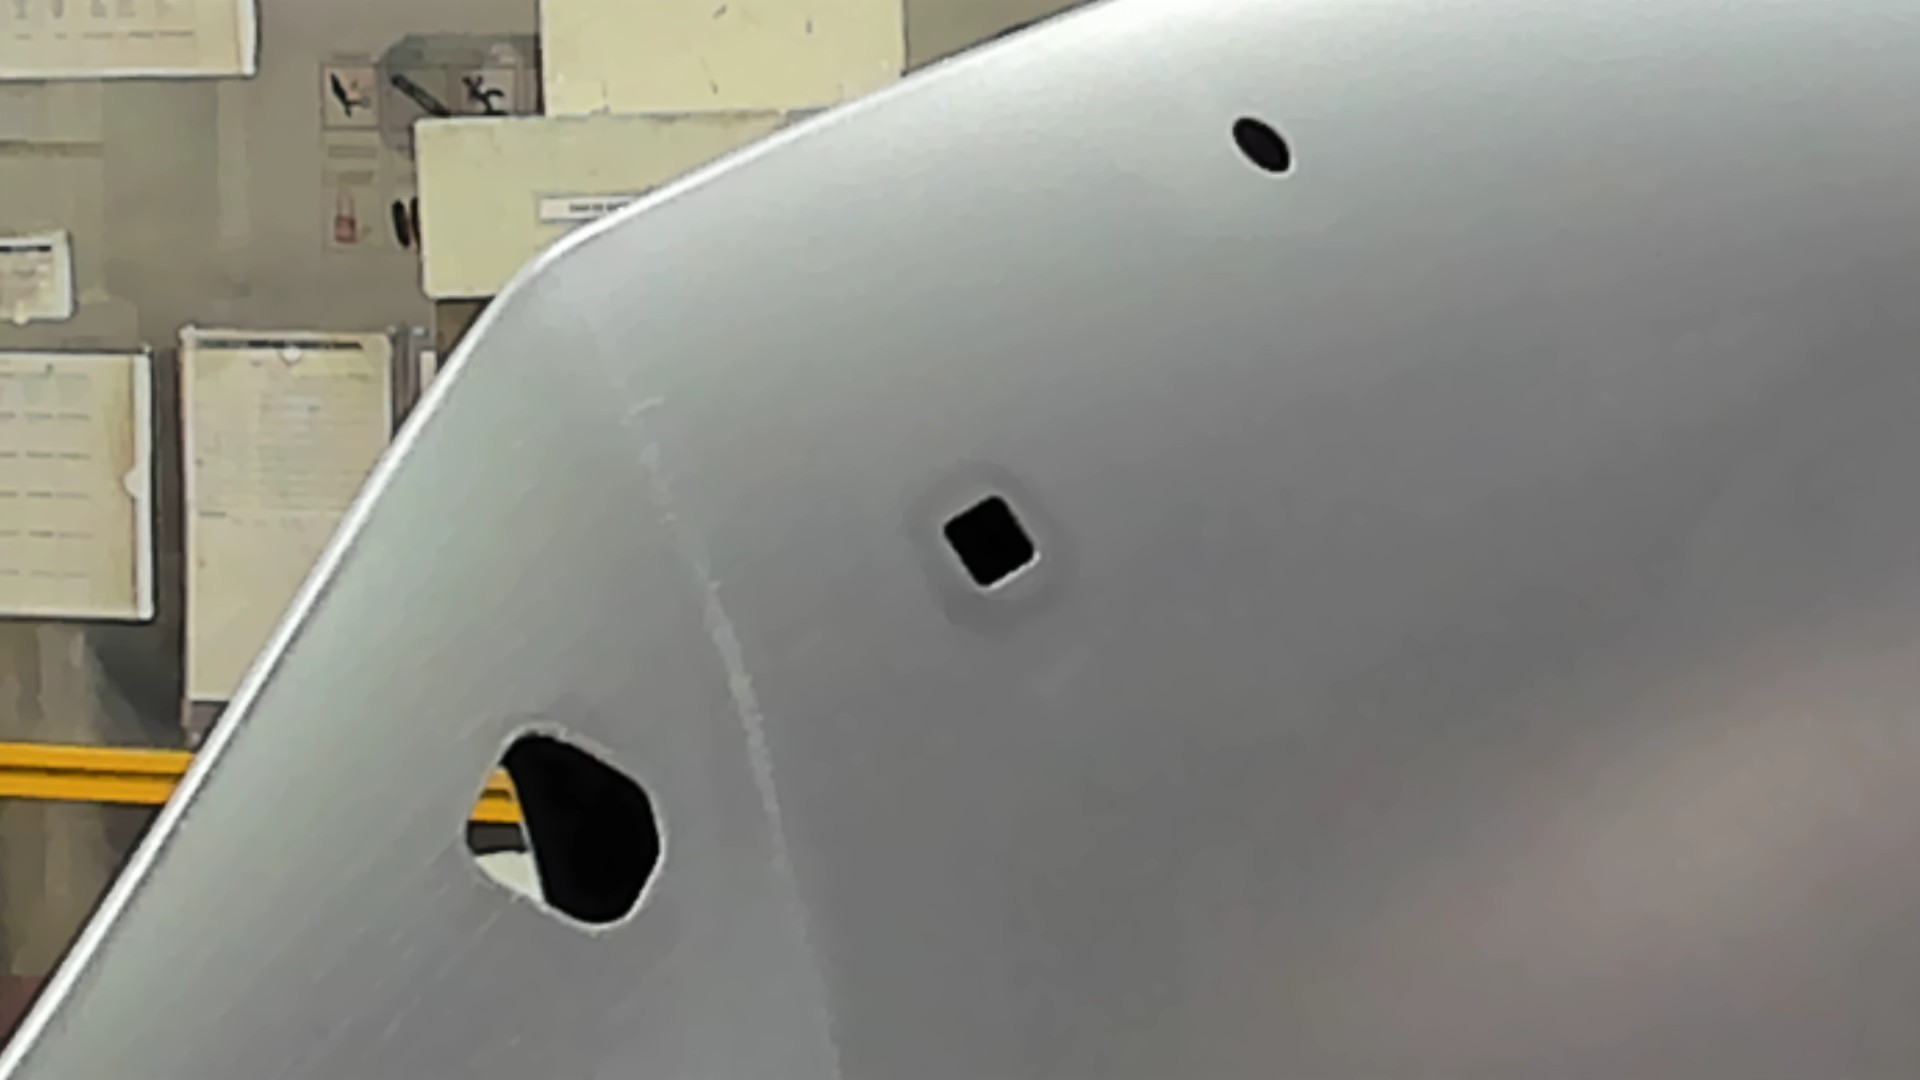chico: (1229, 111, 1295, 177)
grande: (462, 720, 670, 935)
mediano: (942, 492, 1042, 592)
